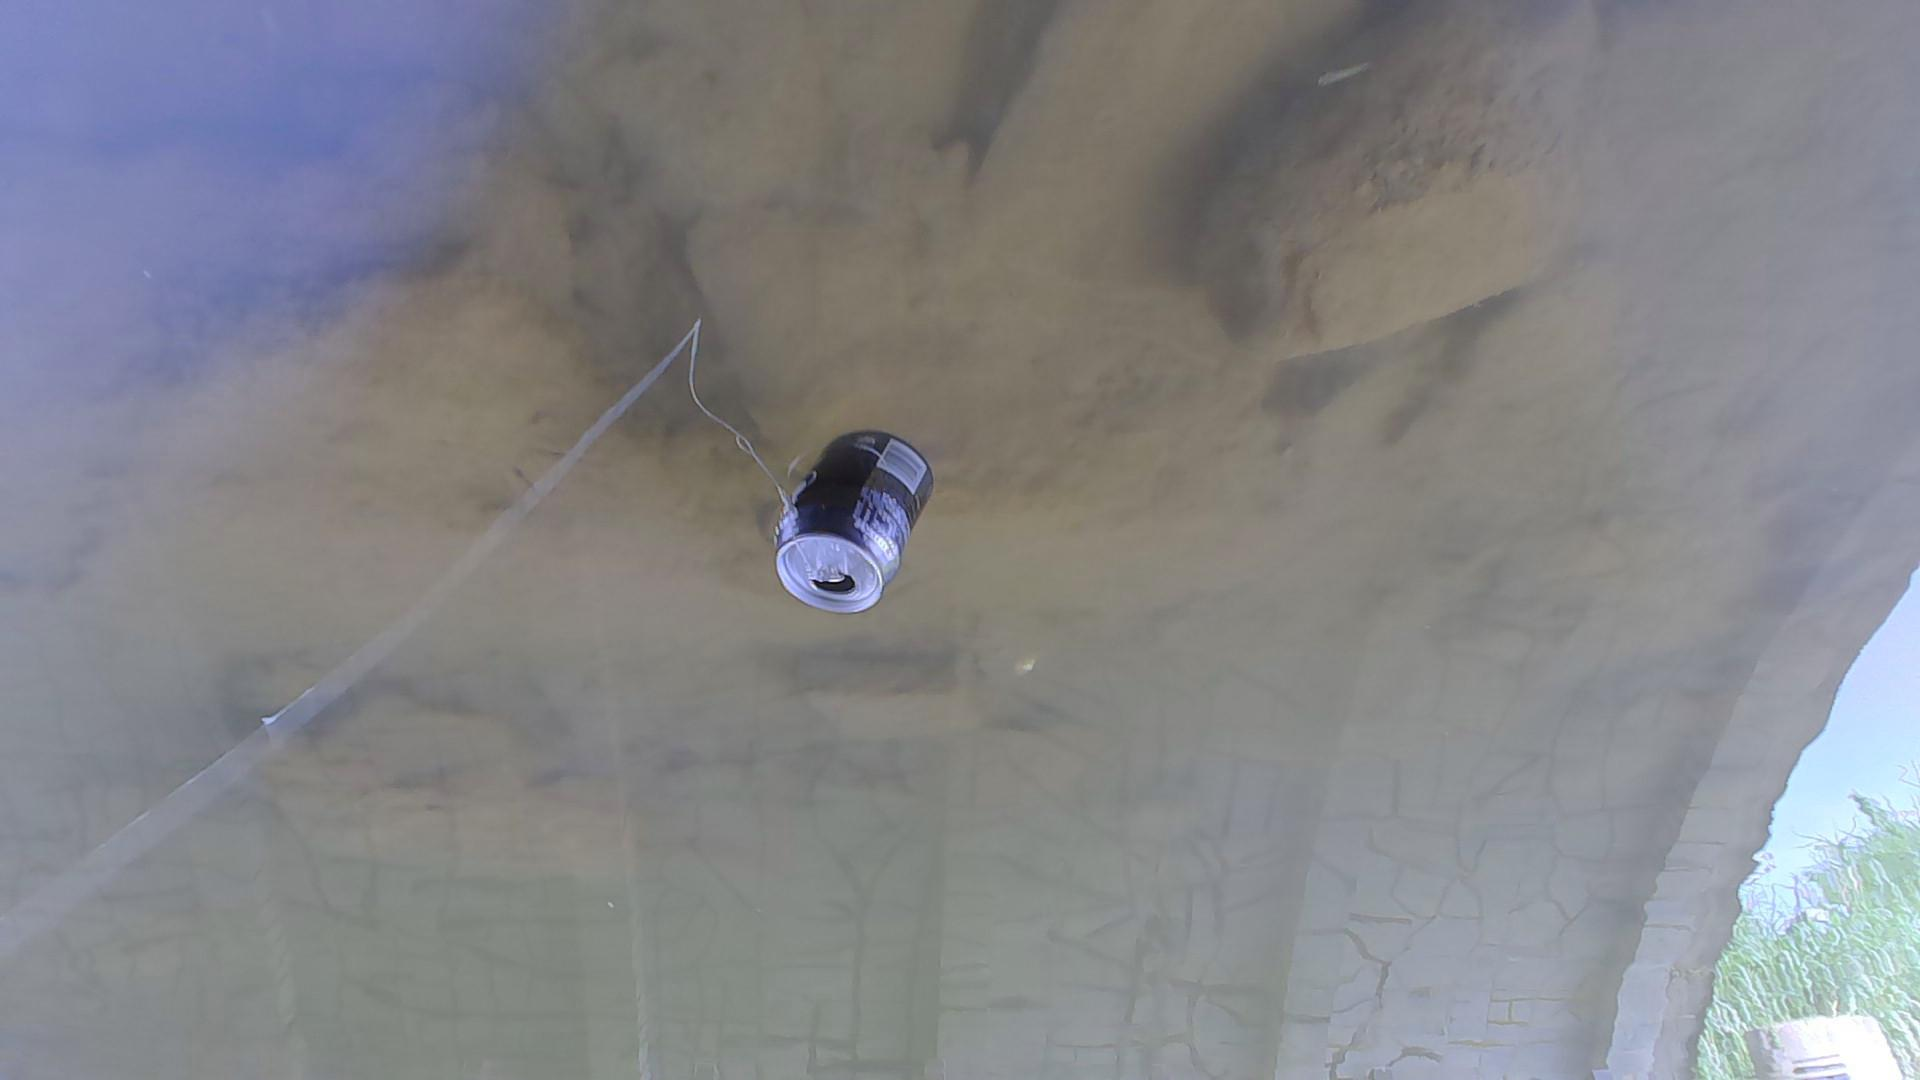Metal: (764, 426, 934, 618)
